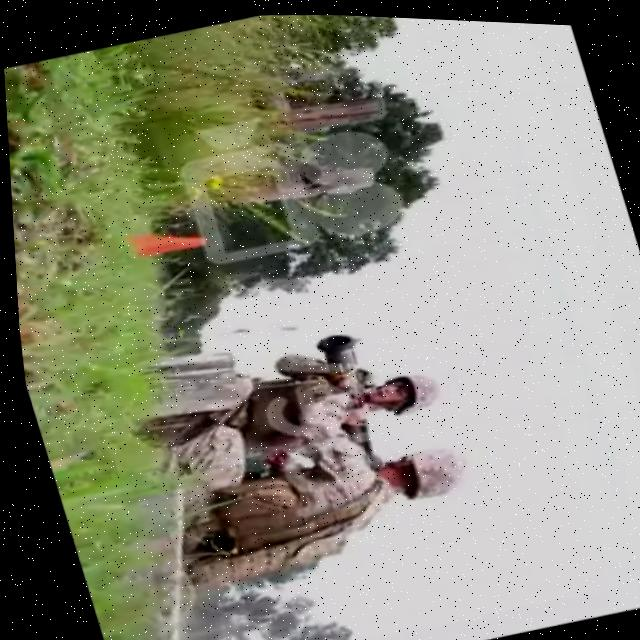rocket: (308, 323, 381, 439)
